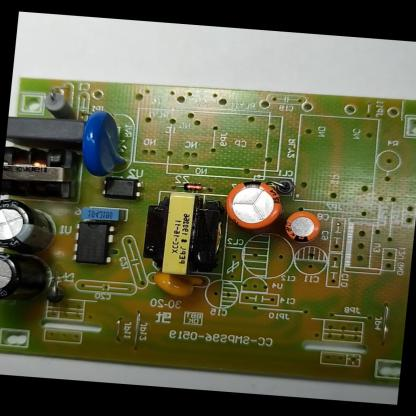Cap1: (222, 176, 288, 233)
Cap2: (280, 209, 324, 245)
Cap3: (0, 195, 60, 256)
Cap4: (0, 250, 55, 307)
MOSFET: (73, 219, 114, 266)
Mov: (76, 107, 136, 180)
Resistor: (40, 91, 78, 122)
Transformer: (138, 188, 227, 279), (1, 143, 78, 200)
